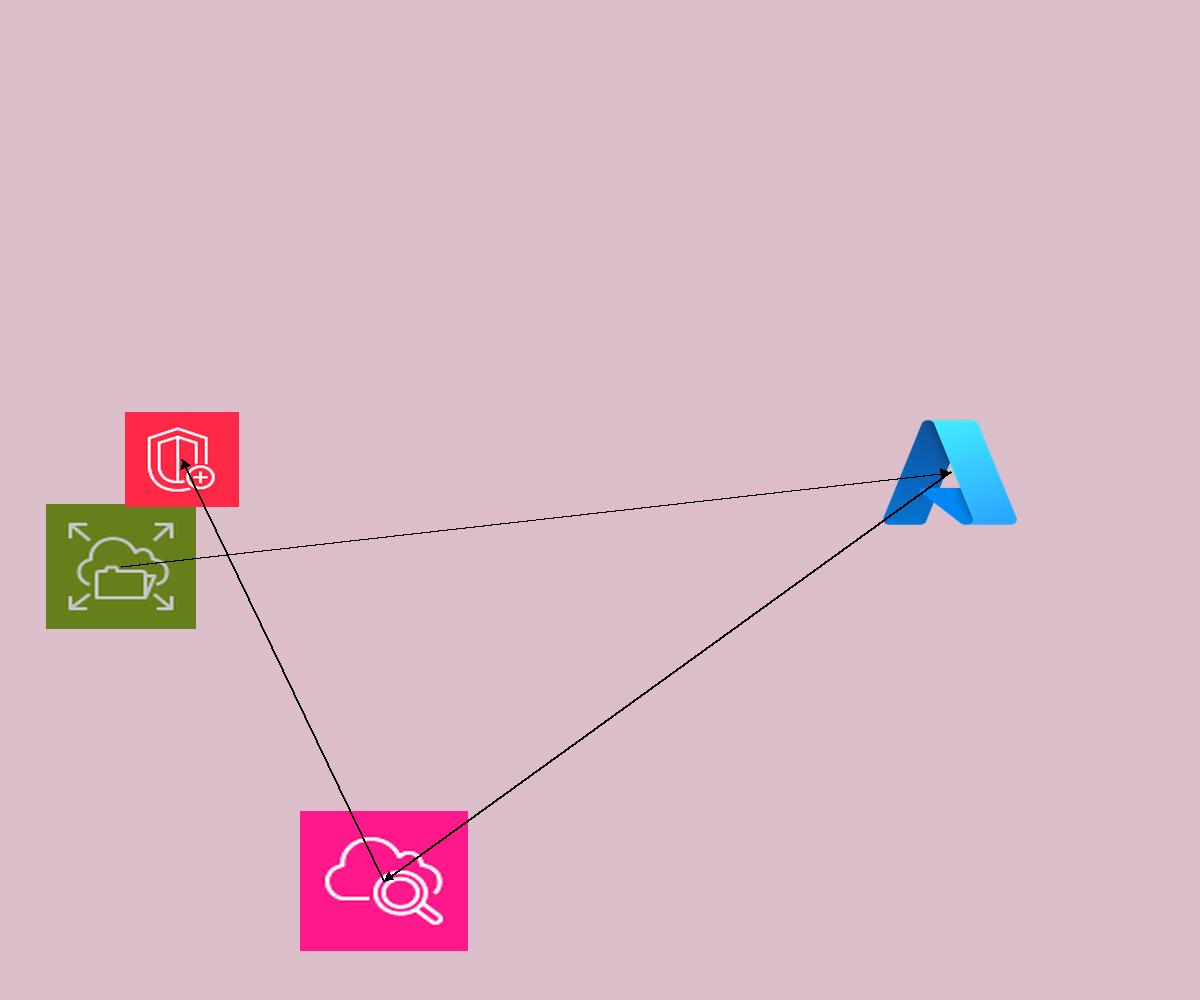AWS-CloudWatch: (300, 811, 468, 951)
AWS-EFS: (46, 504, 196, 629)
AWS-Shield: (125, 412, 239, 507)
Azure_services: (877, 412, 1023, 533)
